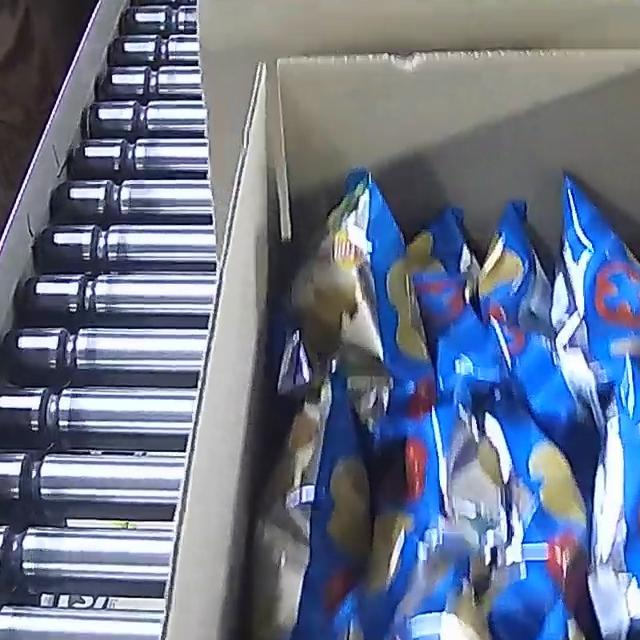paprika: (220, 162, 640, 640)
